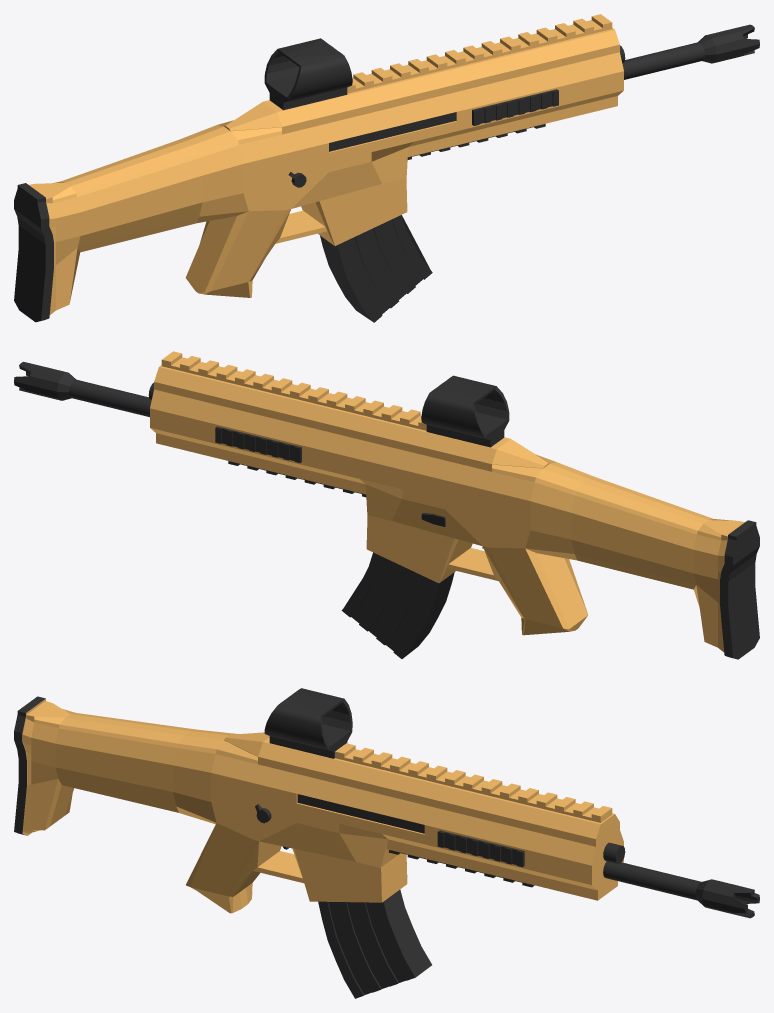
File: Scar h.fbx
The picture shows the model from 3 angles, top to bottom: view 1: azimuth 30°, elevation 25°; view 2: azimuth 150°, elevation 25°; view 3: azimuth 330°, elevation 25°; orthographic projection.
Parts seen in each view (by area): view 1: polySurface42, polySurface46, polySurface43, polySurface39, polySurface35, polySurface36; view 2: polySurface42, polySurface46, polySurface43, polySurface39, polySurface35, polySurface41; view 3: polySurface42, polySurface46, polySurface39, polySurface43, polySurface35, polySurface36.
Part boxes in pixels (x1=…): polySurface42: x1=14, y1=28, x2=623, y2=322; polySurface46: x1=320, y1=215, x2=432, y2=322; polySurface43: x1=264, y1=38, x2=352, y2=110; polySurface39: x1=347, y1=14, x2=612, y2=93; polySurface35: x1=622, y1=24, x2=759, y2=79; polySurface36: x1=472, y1=89, x2=558, y2=125; polySurface42: x1=150, y1=365, x2=759, y2=659; polySurface46: x1=341, y1=552, x2=454, y2=658; polySurface43: x1=421, y1=375, x2=509, y2=447; polySurface39: x1=161, y1=351, x2=426, y2=430; polySurface35: x1=14, y1=361, x2=151, y2=417; polySurface41: x1=215, y1=426, x2=301, y2=462; polySurface42: x1=14, y1=696, x2=623, y2=913; polySurface46: x1=318, y1=889, x2=431, y2=998; polySurface39: x1=335, y1=743, x2=612, y2=822; polySurface43: x1=264, y1=688, x2=352, y2=758; polySurface35: x1=603, y1=861, x2=759, y2=918; polySurface36: x1=437, y1=830, x2=524, y2=867.
Bounding box in the file's own units: 12.99 × 4.75 × 1.14.
Materials: 1 (1 with a texture image).
